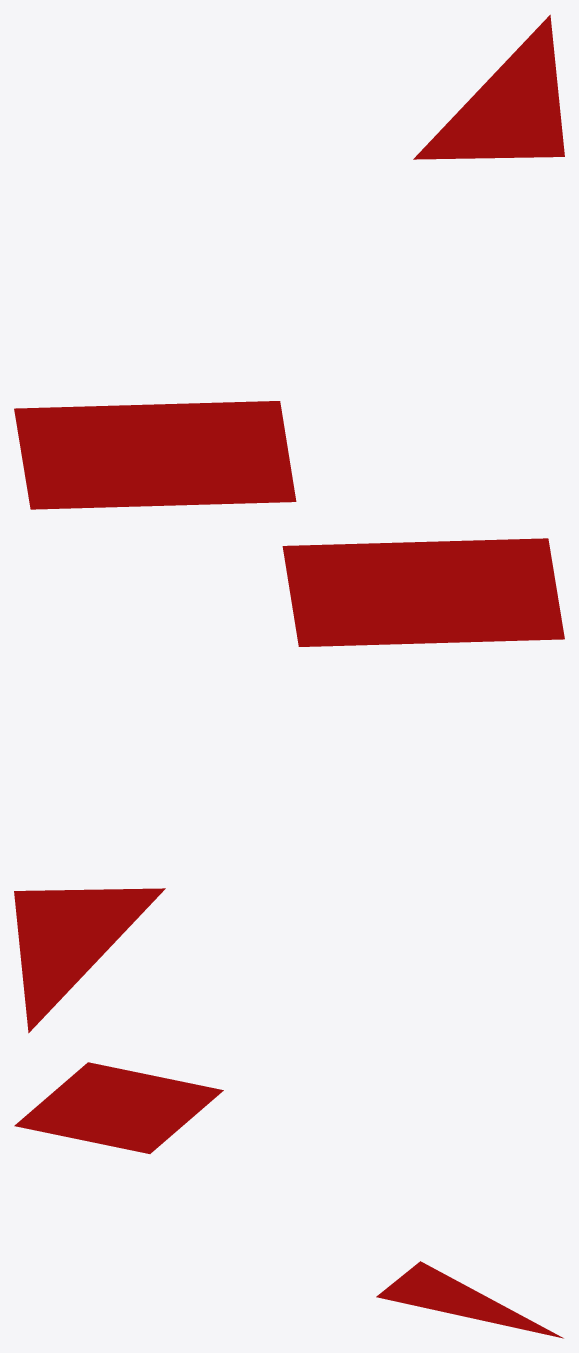
3 views of the same model, one above another, from view 1: azimuth 30°, elevation 25°; view 2: azimuth 210°, elevation 25°; view 3: azimuth 270°, elevation 25° (orthographic). The views are drawn at different scales.
Bounding box in the file's own units: 27.73 × 0 × 23.34.
